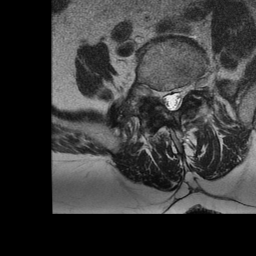CCS_normal: (169, 79, 176, 118)
LFS_normal: (184, 71, 192, 101)
LLS_normal: (176, 78, 184, 111)
RFS_normal: (151, 78, 160, 106)
RLS_normal: (160, 80, 169, 115)
